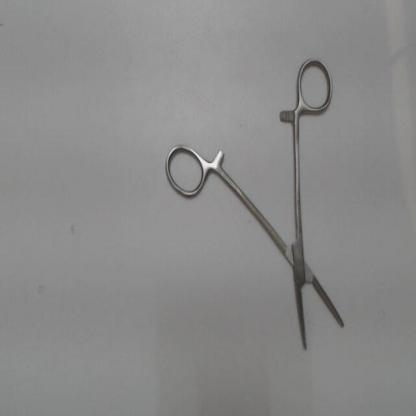Mayo Needle Holder: (161, 53, 354, 373)
